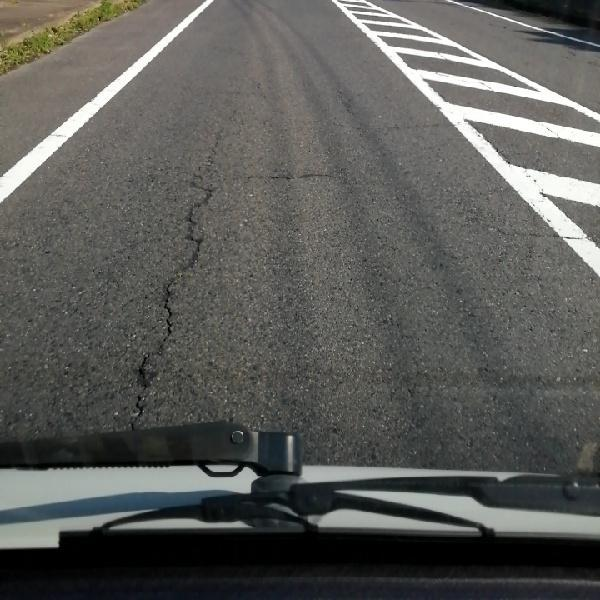D00: (129, 93, 257, 437), (137, 125, 222, 426)
D10: (487, 216, 599, 248), (231, 162, 342, 187), (380, 115, 471, 129)
D44: (354, 0, 599, 267)
